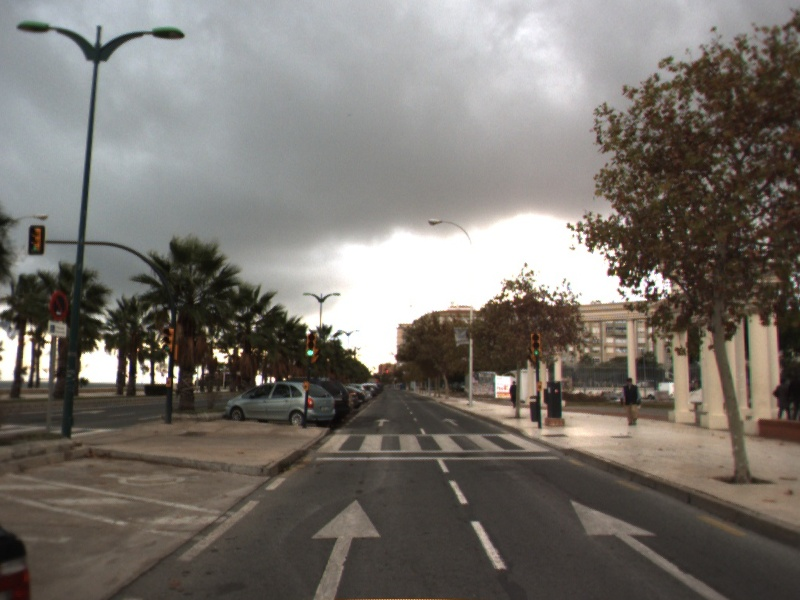STRAIGHT: (567, 496, 728, 600), (308, 497, 384, 600), (440, 416, 460, 427), (373, 417, 392, 428)
